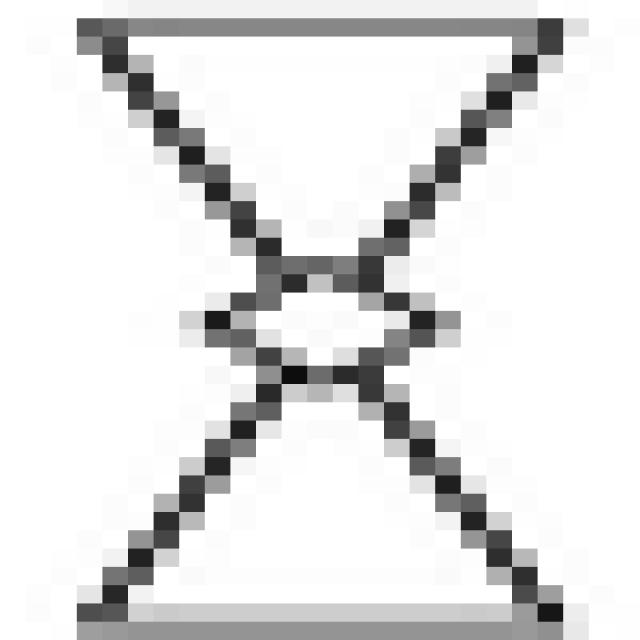Plug Valve: (84, 26, 569, 614)
